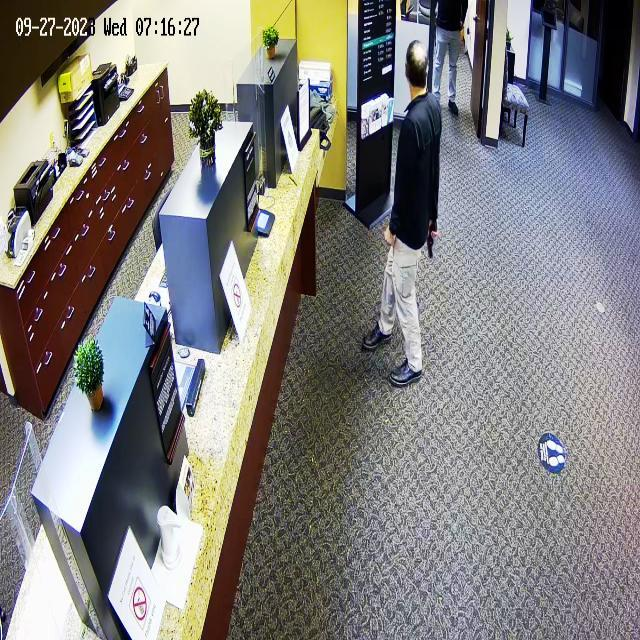Gun: (423, 214, 445, 265)
